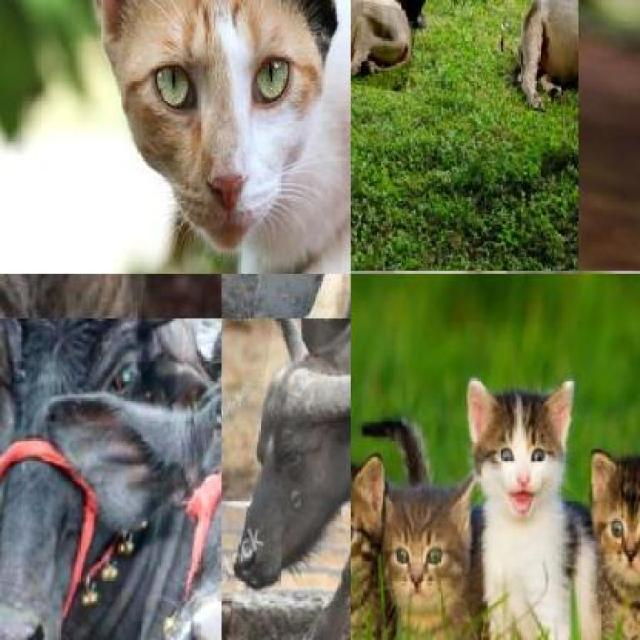buffalo: (0, 318, 197, 640), (223, 318, 351, 640), (118, 318, 222, 640)
cat: (64, 0, 350, 274), (481, 384, 572, 640), (389, 487, 480, 640), (592, 443, 640, 640), (351, 458, 375, 640)
cow: (508, 0, 578, 134), (350, 0, 426, 92), (350, 0, 484, 18)
